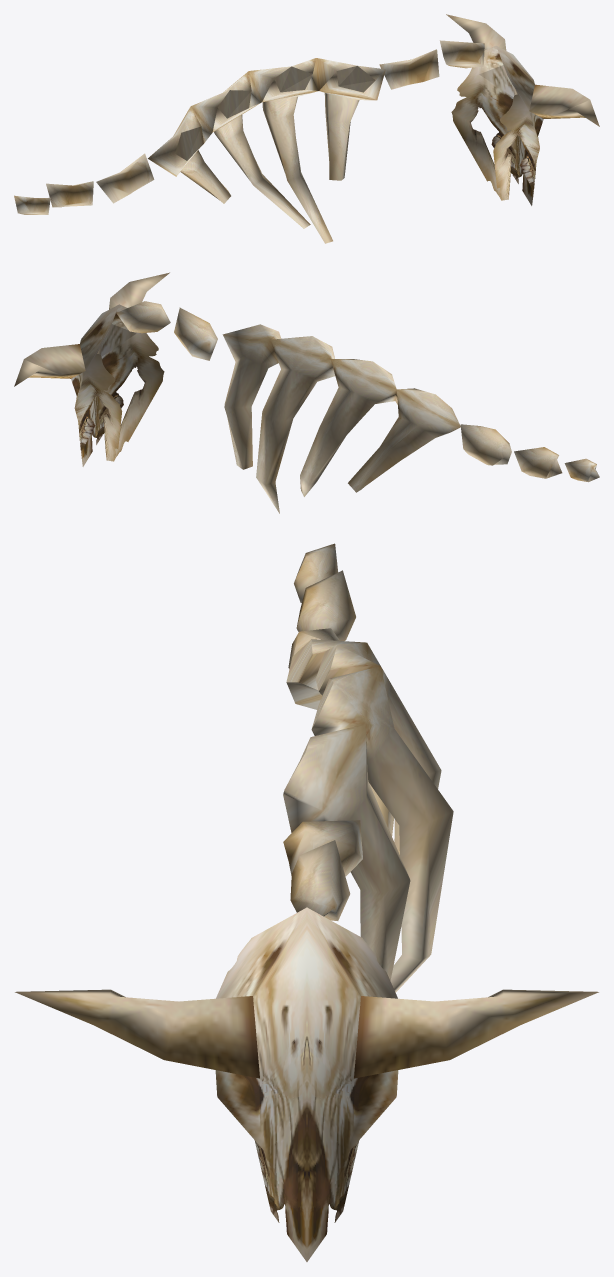
The model's file is cavewallbones01.obj.
3 renders of one model, top to bottom at view 1: azimuth 30°, elevation 25°; view 2: azimuth 150°, elevation 25°; view 3: azimuth 270°, elevation 25°, orthographic. The views are drawn at different scales.
Visible parts, largest first — view 1: CAVEWALLBONES010; view 2: CAVEWALLBONES010; view 3: CAVEWALLBONES010.
Boxes of the visible parts, x1,y1,x2,y2 form: CAVEWALLBONES010: (14,14,599,243); CAVEWALLBONES010: (14,272,599,513); CAVEWALLBONES010: (15,543,598,1261).
Bounding box in the file's own units: 5.24 × 1.83 × 2.67.
Materials: 1 (1 with a texture image).
